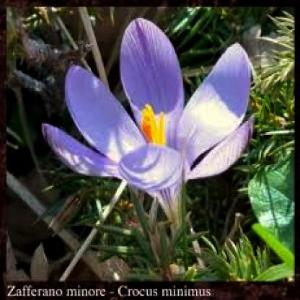Saffron: (43, 20, 255, 208)
